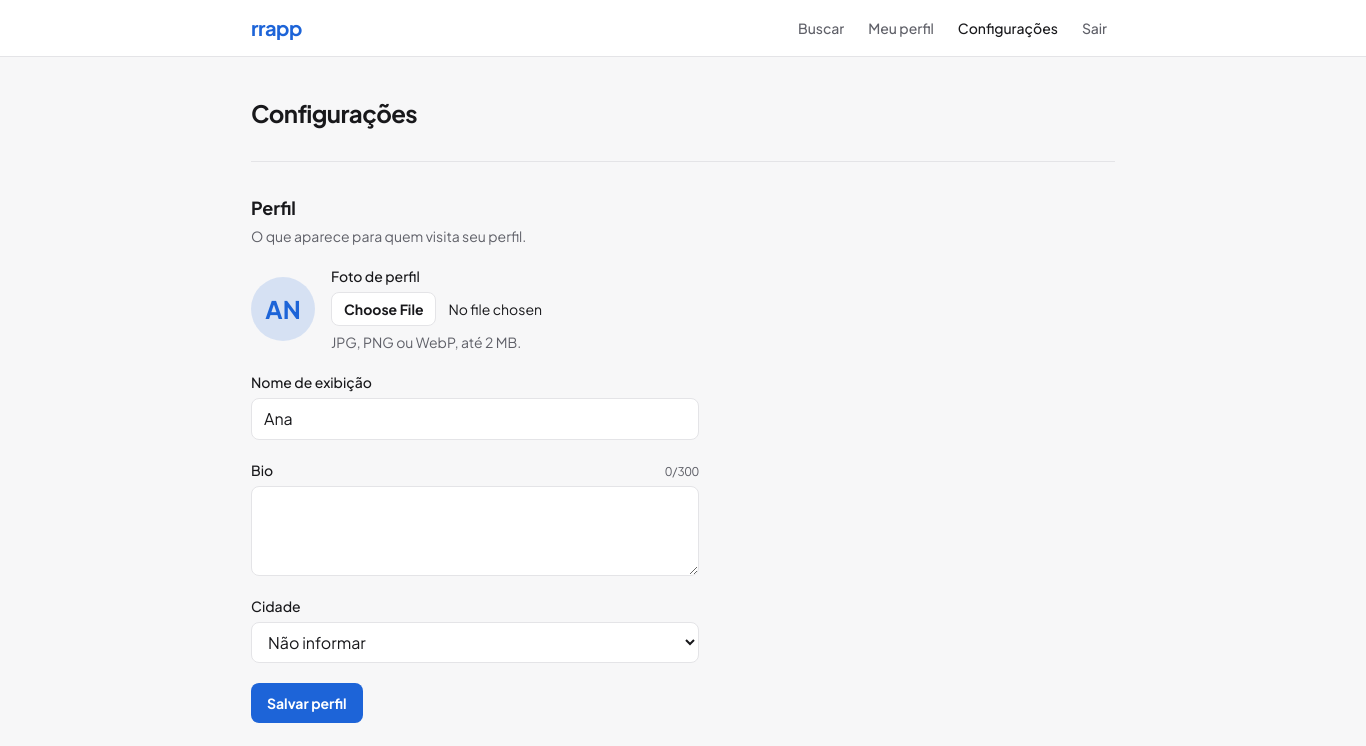
Test: salva nome, bio e cidade
The image size is (1366, 746).
Replace the text in the field labelled "Nome de exibição" with "Ana Maria" at (475, 419), box [251,398,699,440]
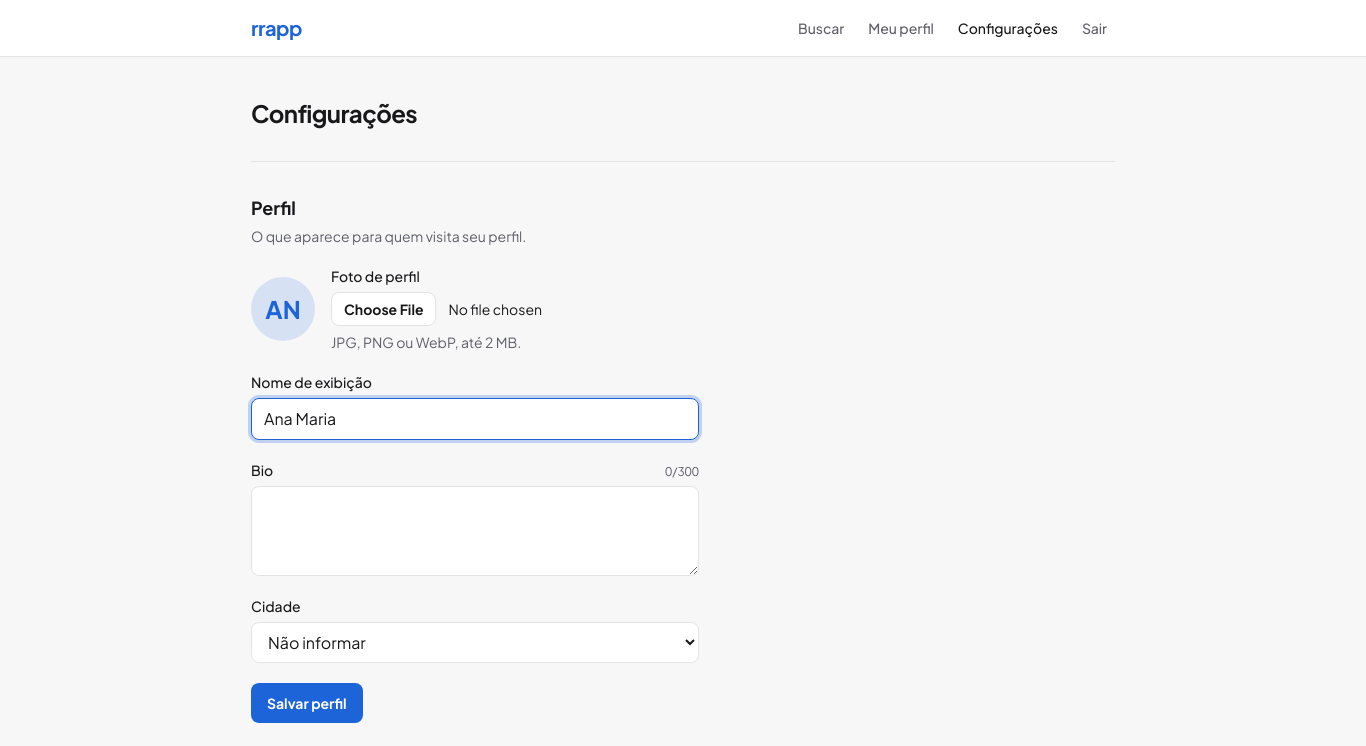
Type "Carioca" into the text box labelled "Bio" at (475, 531), box [251,486,699,576]
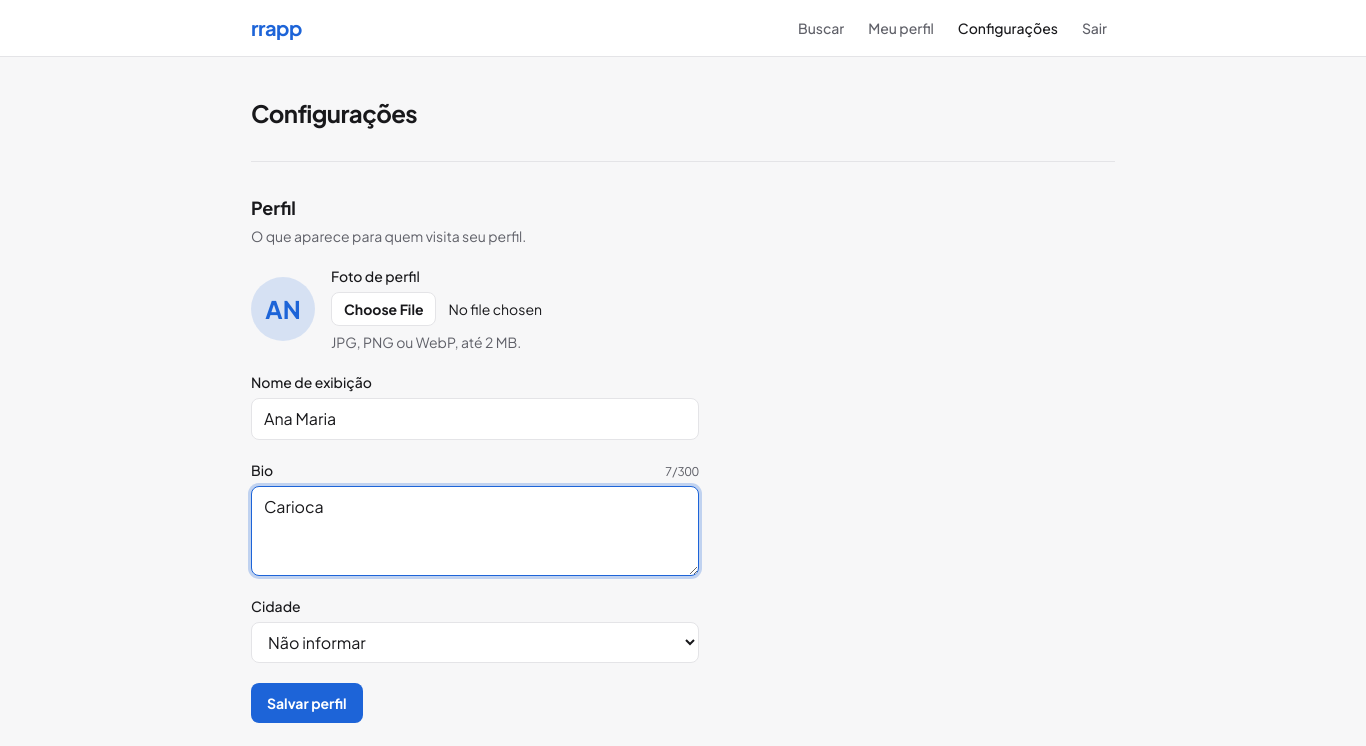
Select "Rio de Janeiro" in the dropdown labelled "Cidade" at (475, 642), box [251,622,699,663]
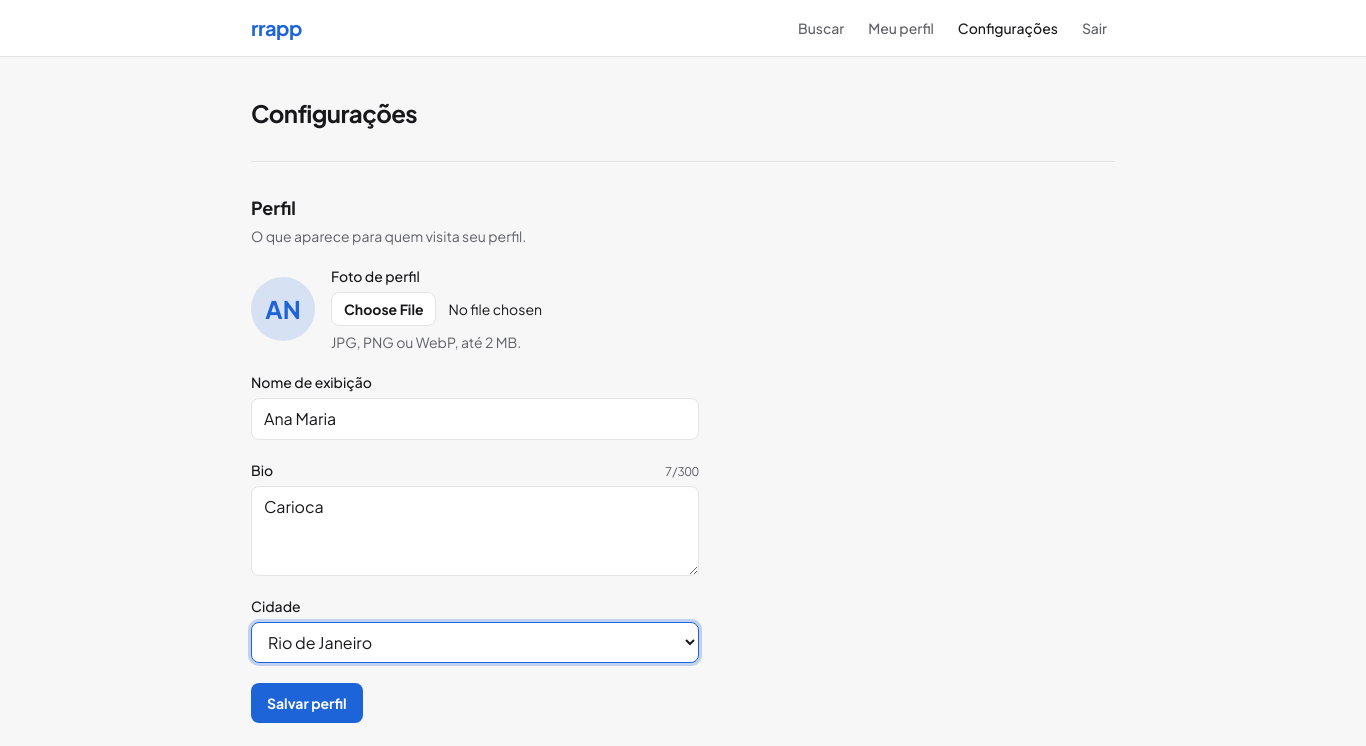
Click the button "Salvar perfil" at (307, 703), box [251,683,363,723]
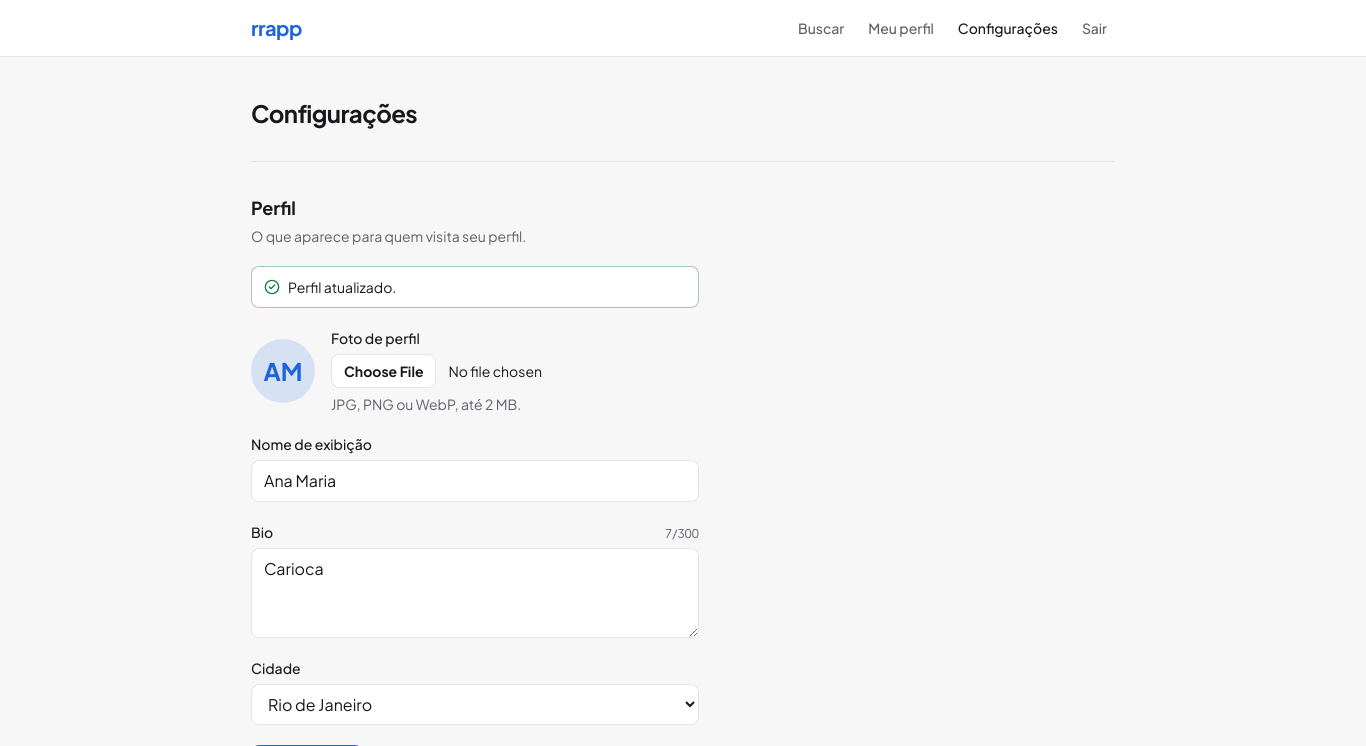
Check: the text "Perfil atualizado." is shown, box [288,277,396,297]
